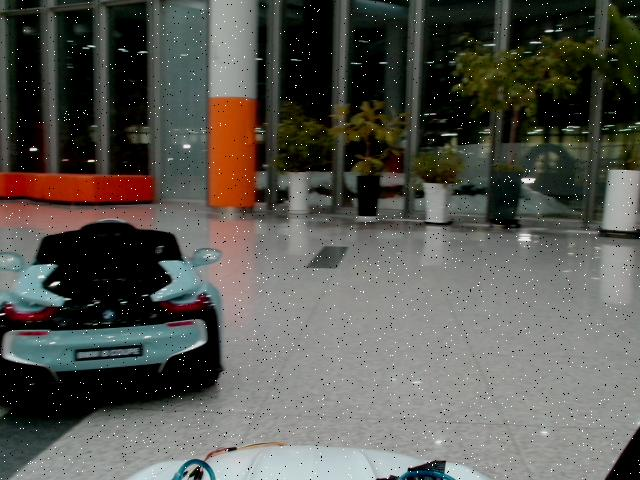car: (1, 219, 223, 404)
